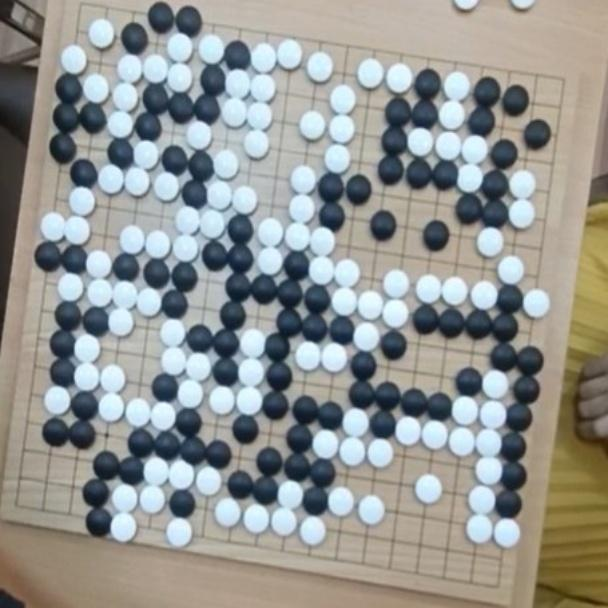corners: (0, 478, 46, 523), (542, 63, 579, 103), (476, 559, 508, 600), (63, 0, 88, 27)
